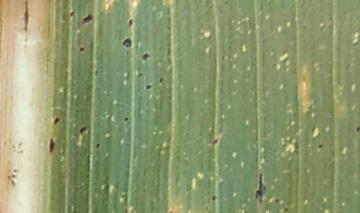tarspot: (253, 171, 267, 205), (21, 1, 31, 32), (81, 13, 94, 27), (47, 136, 56, 155), (121, 37, 133, 49), (140, 51, 151, 62), (52, 117, 61, 126), (144, 82, 153, 91), (211, 138, 220, 147), (78, 125, 86, 135), (8, 170, 18, 178), (68, 10, 76, 19), (127, 18, 134, 28), (9, 179, 17, 187), (16, 141, 24, 149), (135, 72, 144, 79), (211, 194, 218, 202), (78, 46, 86, 53), (122, 116, 130, 123), (273, 197, 280, 205), (93, 68, 100, 76), (354, 124, 360, 133), (317, 142, 324, 149), (282, 206, 289, 213), (158, 76, 164, 84), (95, 142, 101, 149), (124, 49, 130, 56), (220, 54, 225, 61), (12, 167, 17, 174), (19, 148, 25, 153), (15, 149, 20, 155), (223, 1, 229, 4)
